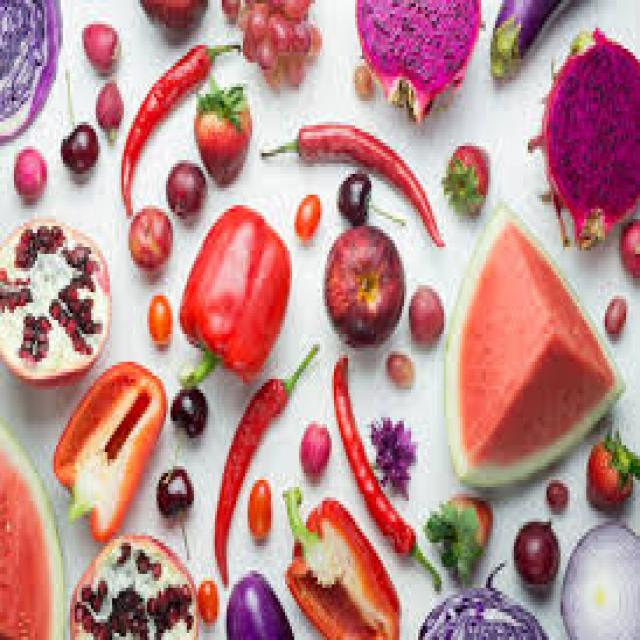organic waste: (444, 198, 621, 494), (329, 348, 442, 591), (523, 25, 638, 244), (210, 341, 313, 584), (257, 122, 441, 240), (117, 38, 243, 209), (49, 358, 168, 539), (0, 215, 107, 382), (280, 484, 397, 636), (352, 0, 483, 118), (68, 528, 198, 636), (0, 418, 61, 636), (322, 219, 402, 344), (558, 515, 638, 636), (219, 0, 320, 90), (0, 0, 61, 143), (488, 0, 591, 73), (411, 581, 544, 636), (421, 487, 488, 577), (192, 84, 248, 184), (586, 428, 638, 518), (367, 410, 418, 501), (224, 570, 294, 636), (442, 139, 488, 212), (512, 515, 558, 584), (126, 202, 173, 268), (138, 0, 210, 35), (406, 278, 444, 341), (58, 115, 98, 174), (336, 167, 381, 219), (166, 160, 203, 216), (168, 382, 206, 434), (297, 421, 329, 480), (79, 21, 117, 69), (10, 143, 44, 195), (157, 463, 189, 518), (96, 73, 121, 139), (245, 480, 269, 539), (616, 219, 638, 278), (147, 289, 168, 344), (292, 192, 318, 236), (386, 351, 414, 386), (196, 577, 215, 626), (600, 296, 626, 330), (266, 10, 288, 46), (353, 62, 371, 98), (248, 7, 268, 38), (283, 49, 301, 80), (257, 31, 271, 70), (546, 480, 568, 504), (241, 24, 257, 56), (282, 0, 310, 17), (292, 21, 306, 49), (306, 21, 318, 52), (236, 0, 248, 28), (247, 0, 268, 10), (222, 0, 233, 14), (271, 0, 283, 7)
